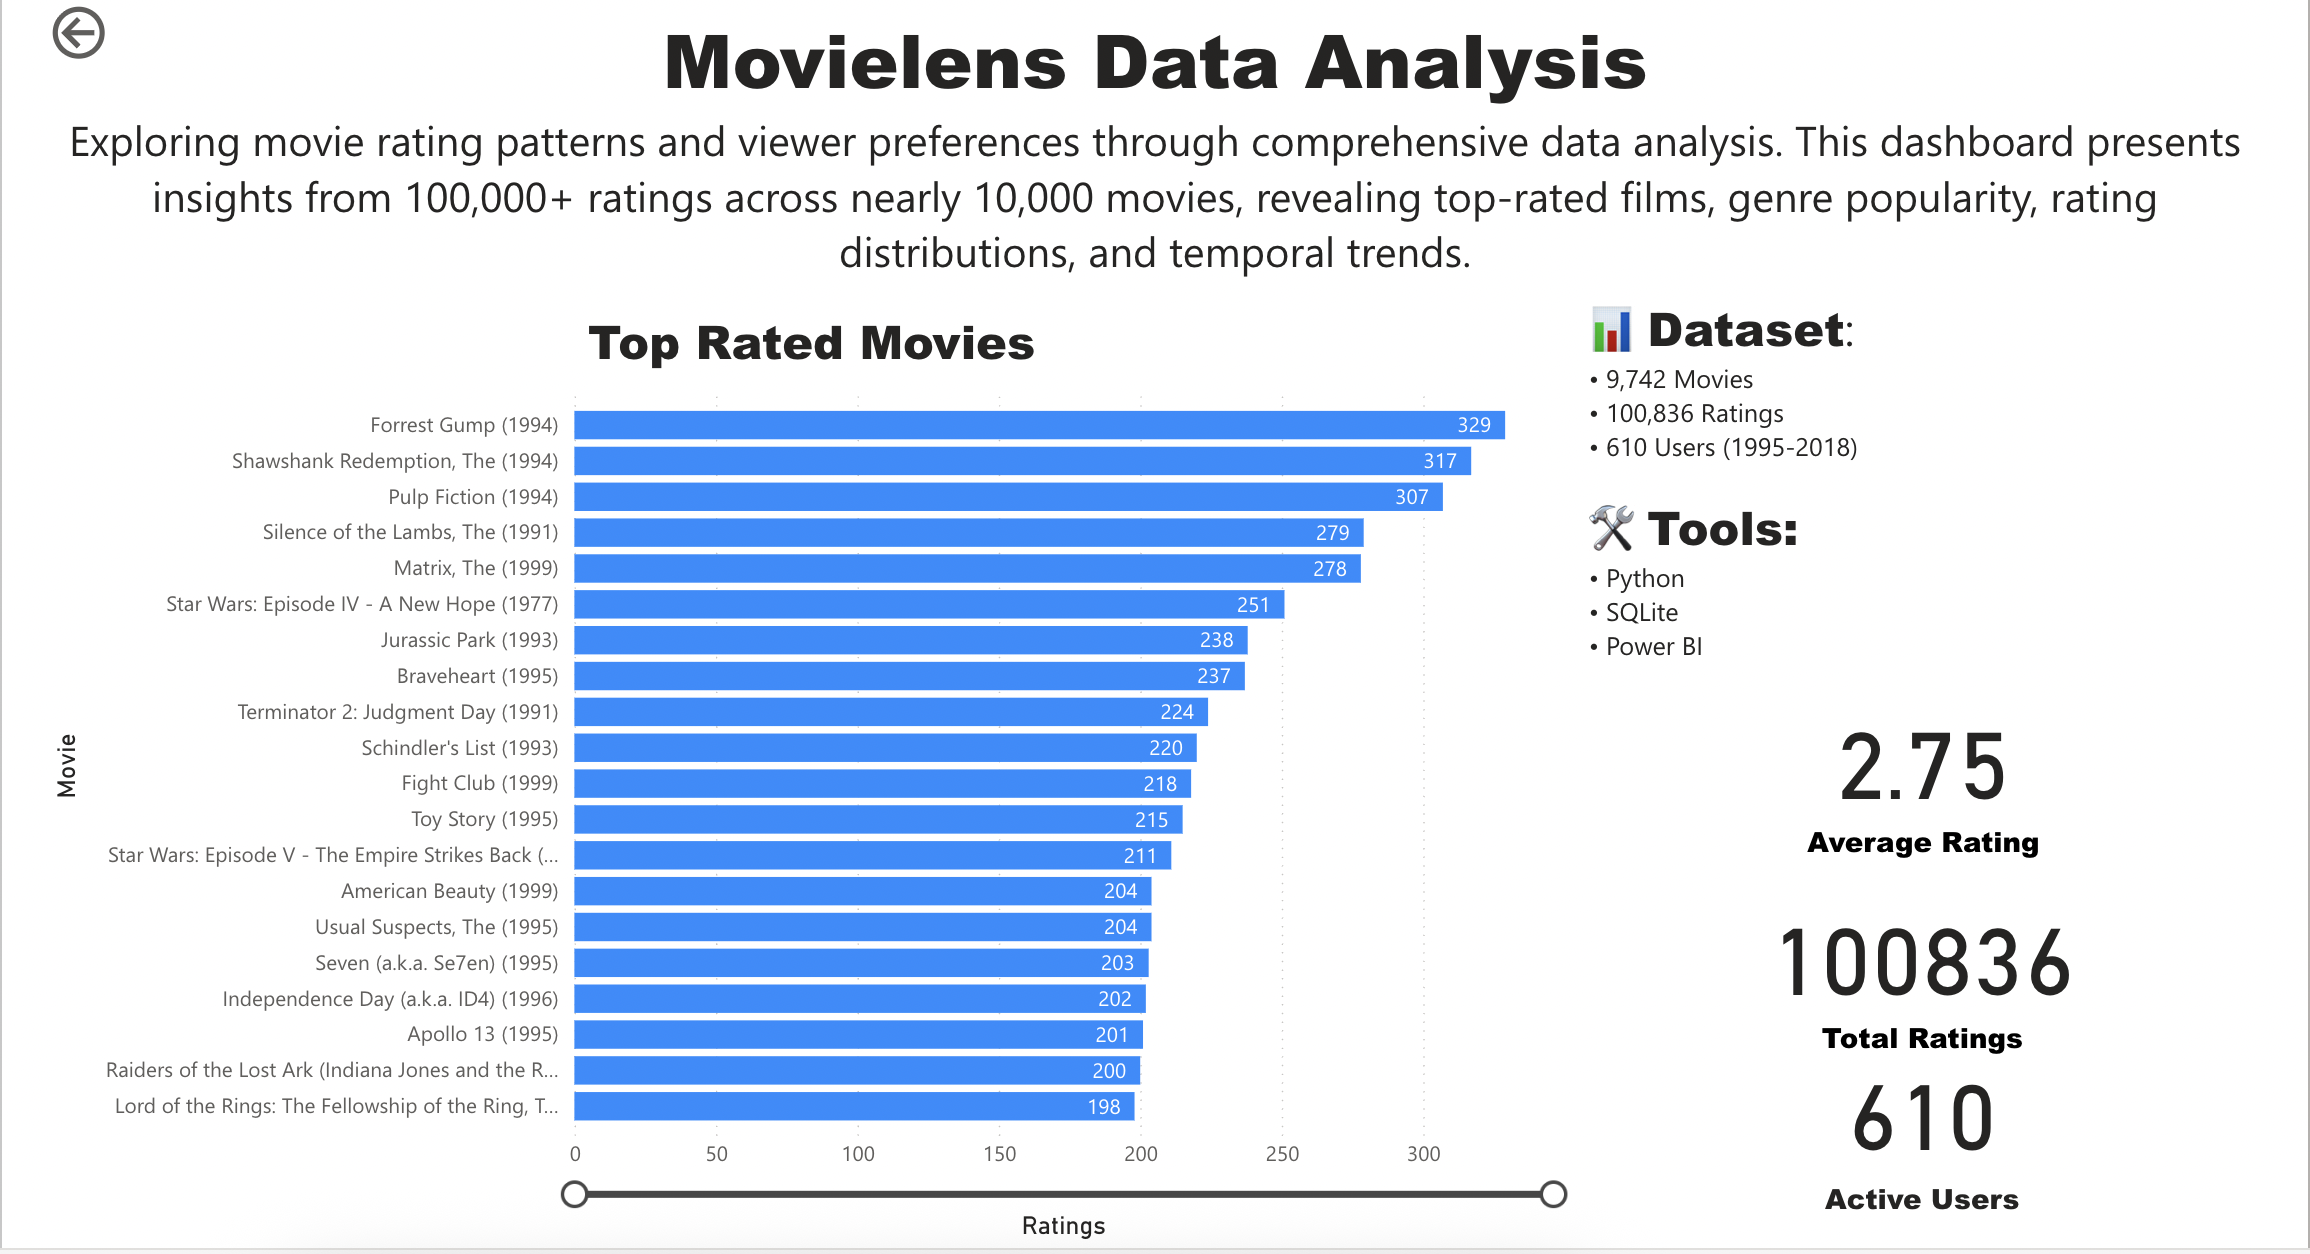

The dashboard page shown, as its layout file describes it:
{"tool":"powerbi","page":{"name":"Page 1","canvas":[1280,720],"ordinal":0},"visuals":[{"type":"barChart","title":"Top Rated Movies","fields":{"Y":["Sum(most_rated_movies 1.num_ratings)"],"Category":["most_rated_movies 1.title"]},"box":[0,178.2,884.3,542.4],"z":1},{"type":"textbox","box":[0,0,1280,166.4],"z":2},{"type":"textbox","box":[884.3,166.4,395.7,222.7],"z":3},{"type":"card","title":"⭐","fields":{"Values":["Avg(rating_distribution 1.rating)"]},"box":[884.3,389.1,395.7,114],"z":4},{"type":"card","fields":{"Values":["Sum(rating_distribution 1.count)"]},"box":[884.3,503.1,394.4,112.7],"z":5},{"type":"actionButton","box":[0,0,100,40],"z":6},{"type":"textbox","box":[884.3,615.8,394.4,104.8],"z":7}]}

Visuals, with their boxes on the page's 1280x720 design canvas (x1, y1, x2, y2). These are canvas units, not pixel positions in the 2310x1254 screenshot, which may show the page scaled, cropped or inside an application window:
"Top Rated Movies" barChart: bbox=(0, 178, 884, 721)
textbox: bbox=(0, 0, 1280, 166)
textbox: bbox=(884, 166, 1280, 389)
"⭐" card: bbox=(884, 389, 1280, 503)
card - Sum(rating_distribution 1.count): bbox=(884, 503, 1279, 616)
actionButton: bbox=(0, 0, 100, 40)
textbox: bbox=(884, 616, 1279, 721)
